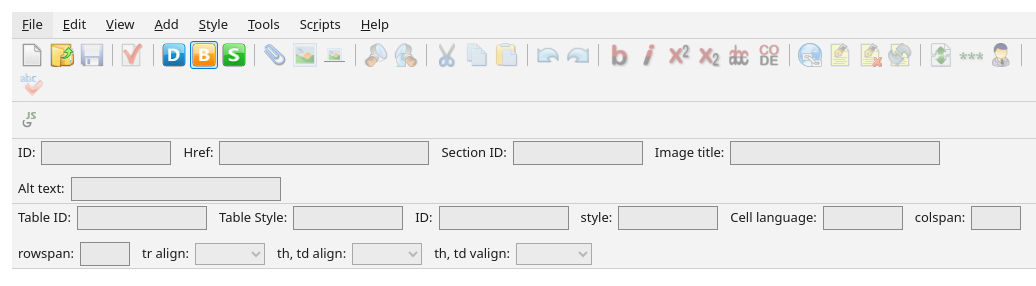
Scenario: Scripts menu and toolbar › lists groups as sub-menus in NN order with the manifest names and hotkeys
The width and height of the screenshot is (1036, 286).
Click the menu item with test id "menu-scripts": (320,25) top-left (290, 12), bottom-right (351, 38)
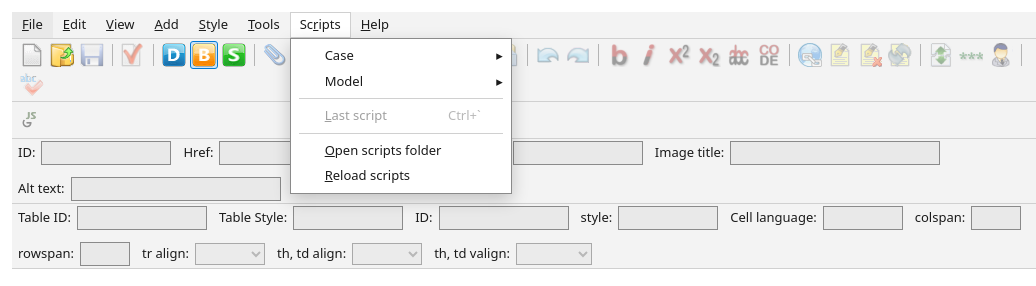
Result: the menu item with test id "menu-scripts-last" shows "Last script" at top-left (325, 106), bottom-right (481, 124)
Result: the menu item with test id "menu-scripts-openFolder" reads "Open scripts folder" at top-left (325, 141), bottom-right (442, 159)
Result: the menu item with test id "menu-scripts-reload" reads "Reload scripts" at top-left (325, 166), bottom-right (410, 184)
Hover over the menu item with test id "menu-scripts-01_Case": (339,55) top-left (325, 46), bottom-right (503, 64)
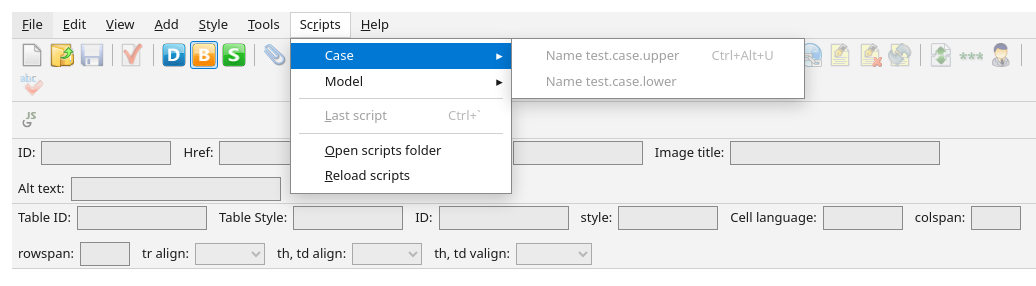
Result: the menu item with test id "menu-scripts-01_Case-test.case.upper" shows "Name test.case.upper" at top-left (546, 46), bottom-right (774, 64)
Result: the menu item with test id "menu-scripts-01_Case-test.case.upper" shows "Ctrl+Alt+U" at top-left (546, 46), bottom-right (774, 64)
